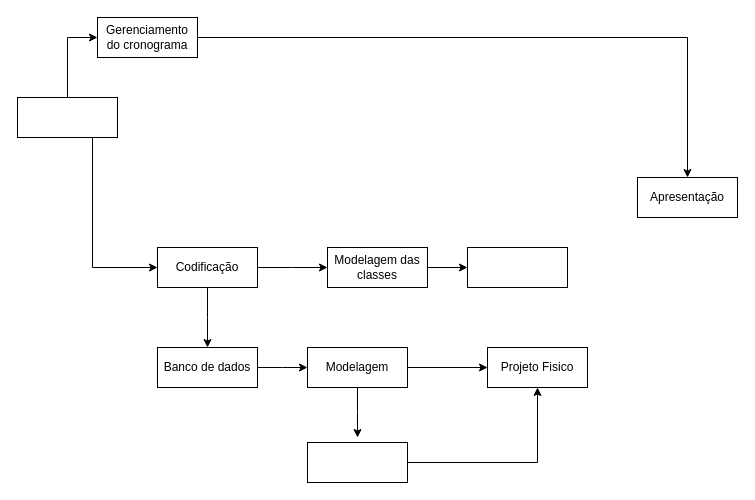
This 755x500 diagram has some shape labels left out. Each missing label, with the centre of its shape:
"INICIO" goes at pixel 67 117.
"Projeto logico" goes at pixel 357 462.
"Recursos" goes at pixel 517 267.
